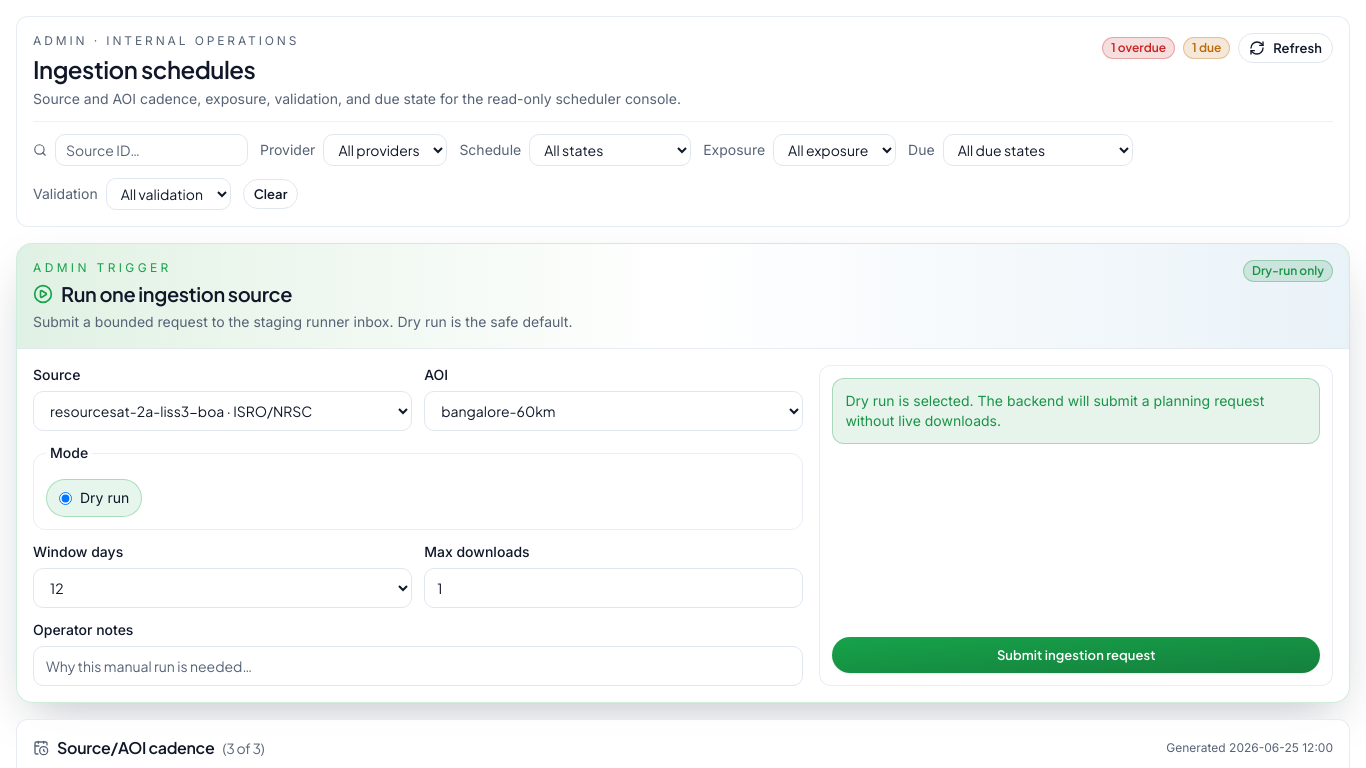
Test: IngestionSchedules › submits a dry-run trigger request and shows the filtered jobs link on success
Type "Check latest Bangalore coverage" into the field labelled "Operator notes".
click(418, 666); type("Check latest Bangalore coverage")  # box [33, 646, 803, 686]
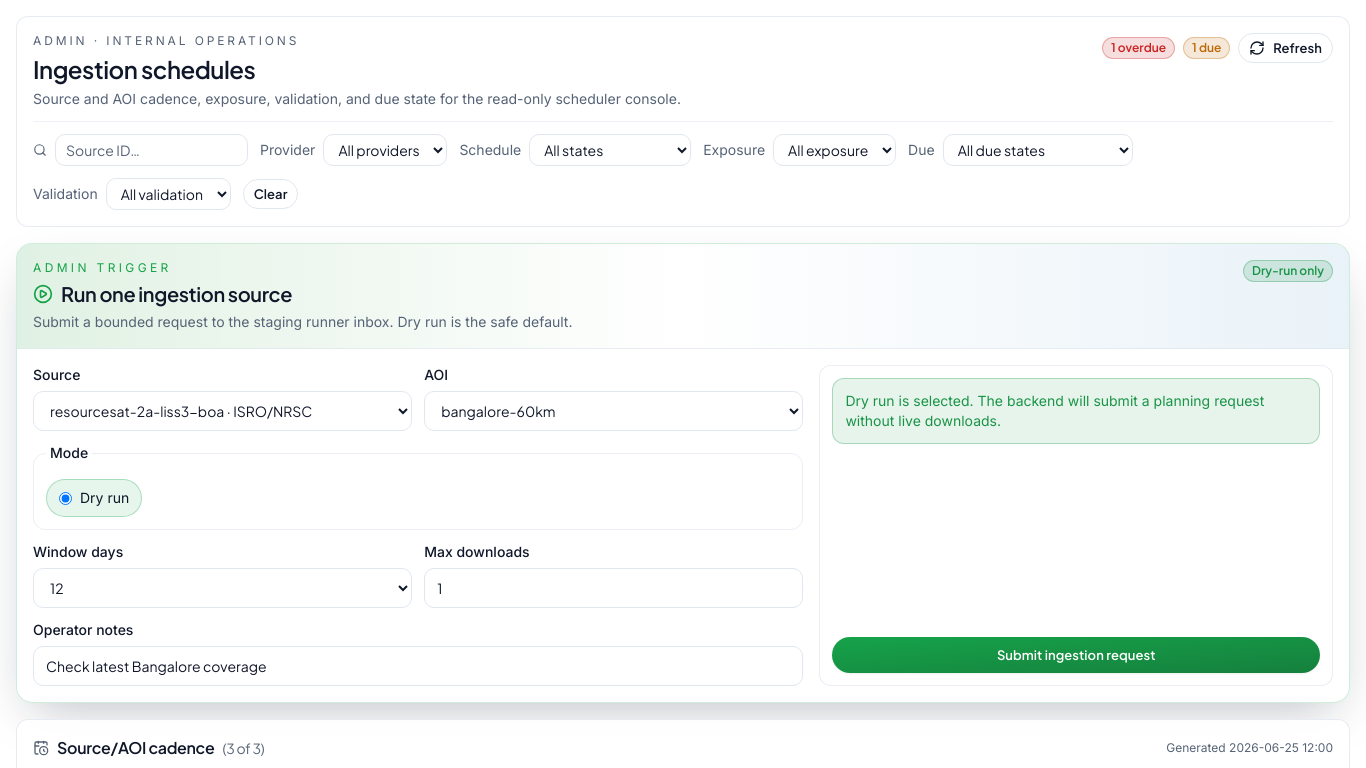
Click the button "Submit ingestion request".
click(1076, 655)  # box [832, 637, 1320, 673]
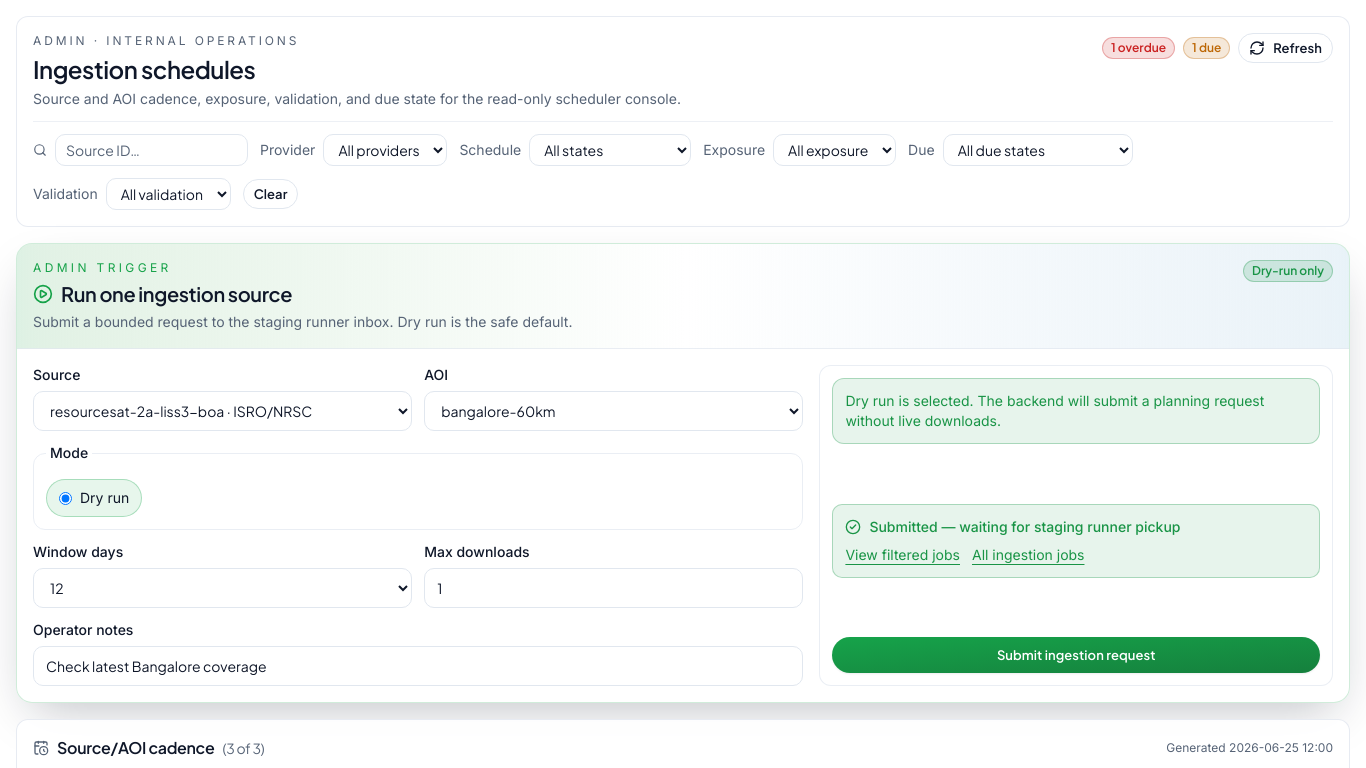
Expected: the text "Submitted — waiting for staging runner pickup" is shown, [845, 518, 1180, 534]
Expected: the link "All ingestion jobs" is shown, [972, 544, 1084, 564]
